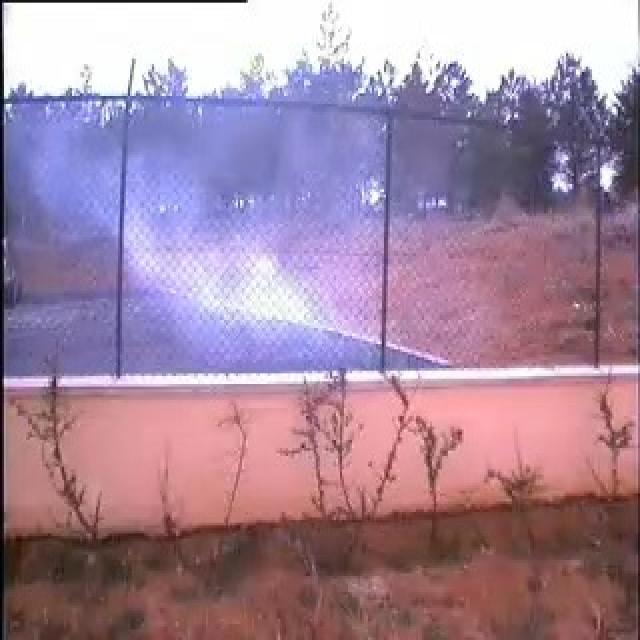smoke: (121, 118, 387, 374)
